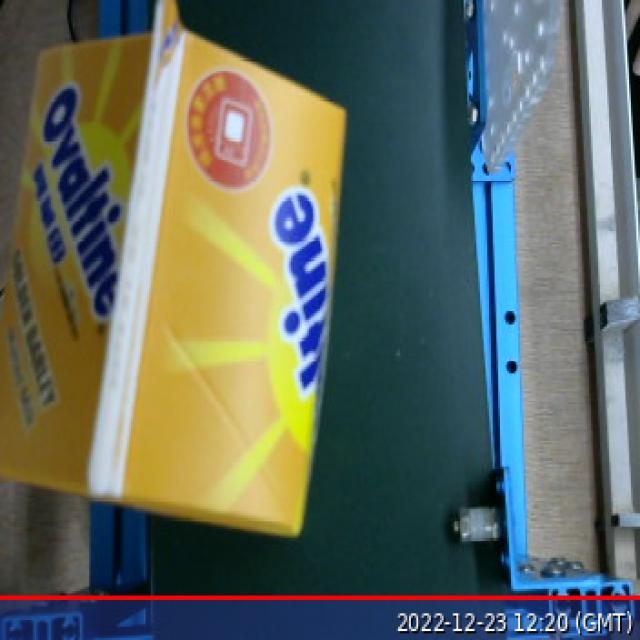non_white_jug: (0, 4, 357, 547)
